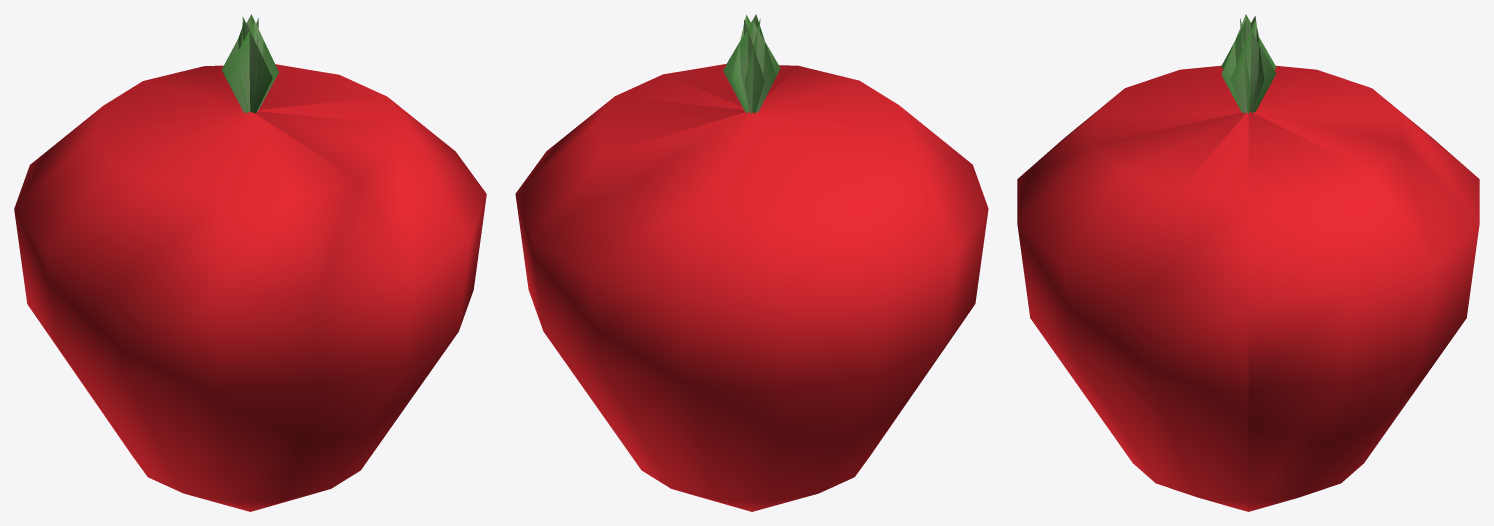
The model's file is fruit-strawberry-gold.glb.
The picture shows the model from 3 angles, left to right: view 1: azimuth 30°, elevation 25°; view 2: azimuth 150°, elevation 25°; view 3: azimuth 270°, elevation 25°; orthographic projection.
Parts seen in each view (by area): view 1: fruit-strawberry; view 2: fruit-strawberry; view 3: fruit-strawberry.
Part boxes in pixels (box(x1,y1,x2,y2)): fruit-strawberry: box(14, 14, 486, 511); fruit-strawberry: box(515, 14, 988, 511); fruit-strawberry: box(1017, 14, 1479, 511).
Size of the model in its own units: 0.252 by 0.29 by 0.2457.
